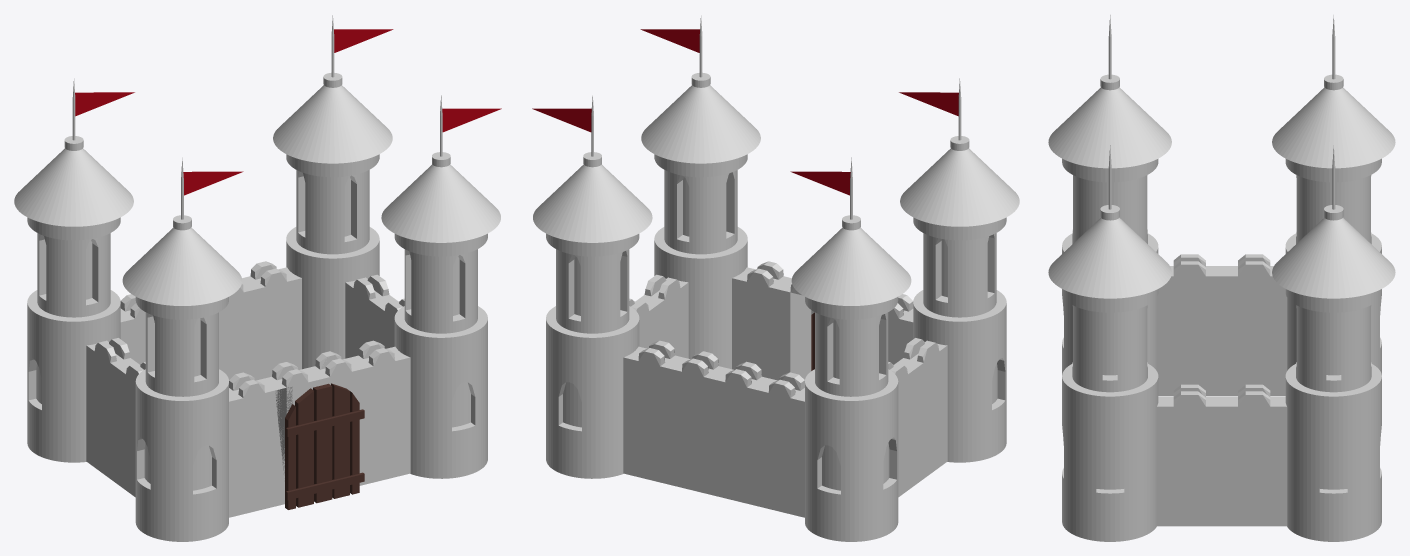
Rendered from sandcastle.fbx.
3 renders of one model, left to right at view 1: azimuth 30°, elevation 25°; view 2: azimuth 150°, elevation 25°; view 3: azimuth 270°, elevation 25°, orthographic. The views are drawn at different scales.
Visible parts, largest first — view 1: Cube, Cylinder, Cylinder.001, Cylinder.003, Cube.001, Cube.003, Cylinder.002, Cone, Cone.001, Cone.003, Cone.002, Cylinder.004 (+19 smaller); view 2: Cube.001, Cylinder.003, Cylinder.002, Cylinder, Cube, Cube.003, Cylinder.001, Cone.003, Cone.002, Cone, Cone.001, Cylinder.007 (+12 smaller); view 3: Cube.002, Cube.003, Cylinder.001, Cylinder.002, Cone, Cone.003, Cone.001, Cone.002, Cylinder.007, Cylinder.004, Cylinder.005, Cylinder.006 (+6 smaller).
Boxes of the visible parts, left/top/right/bottom form: Cube: left=229, top=340, right=410, bottom=517; Cylinder: left=135, top=369, right=228, bottom=541; Cylinder.001: left=394, top=306, right=487, bottom=478; Cylinder.003: left=27, top=290, right=120, bottom=462; Cube.001: left=120, top=261, right=301, bottom=380; Cube.003: left=86, top=338, right=145, bottom=497; Cylinder.002: left=286, top=227, right=379, bottom=369; Cone: left=273, top=85, right=392, bottom=163; Cone.001: left=14, top=148, right=133, bottom=226; Cone.003: left=381, top=164, right=500, bottom=242; Cone.002: left=122, top=227, right=242, bottom=305; Cylinder.004: left=404, top=249, right=477, bottom=333; Cube.001: left=623, top=340, right=804, bottom=517; Cylinder.003: left=805, top=369, right=898, bottom=541; Cylinder.002: left=546, top=306, right=639, bottom=478; Cylinder: left=913, top=290, right=1006, bottom=462; Cube: left=732, top=261, right=913, bottom=380; Cube.003: left=888, top=338, right=947, bottom=497; Cylinder.001: left=654, top=227, right=747, bottom=369; Cone.003: left=641, top=85, right=760, bottom=163; Cone.002: left=900, top=148, right=1019, bottom=226; Cone: left=533, top=164, right=652, bottom=242; Cone.001: left=791, top=227, right=911, bottom=305; Cylinder.007: left=556, top=249, right=629, bottom=333; Cube.002: left=1156, top=384, right=1287, bottom=526; Cube.003: left=1156, top=254, right=1287, bottom=395; Cylinder.001: left=1062, top=364, right=1158, bottom=541; Cylinder.002: left=1285, top=364, right=1381, bottom=541; Cone: left=1272, top=218, right=1395, bottom=298; Cone.003: left=1048, top=218, right=1171, bottom=298; Cone.001: left=1272, top=87, right=1395, bottom=168; Cone.002: left=1048, top=87, right=1171, bottom=168; Cylinder.007: left=1296, top=305, right=1371, bottom=392; Cylinder.004: left=1072, top=305, right=1147, bottom=392; Cylinder.005: left=1072, top=175, right=1147, bottom=243; Cylinder.006: left=1296, top=175, right=1371, bottom=243.
Bounding box in the file's own units: 575 × 543 × 450.
